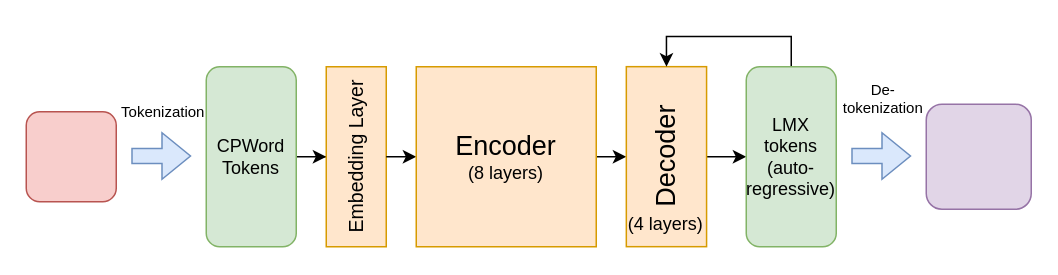
The diagram is 1058 pixels wide and 275 high, and some of its shapes have lost their labels. The shapes that lost their labels are listed below. From the top down, each one's box as (x1, y1, x2, y2) in pixels, then its label:
(25, 110, 116, 202): MIDI
(925, 103, 1031, 209): MusicXML
